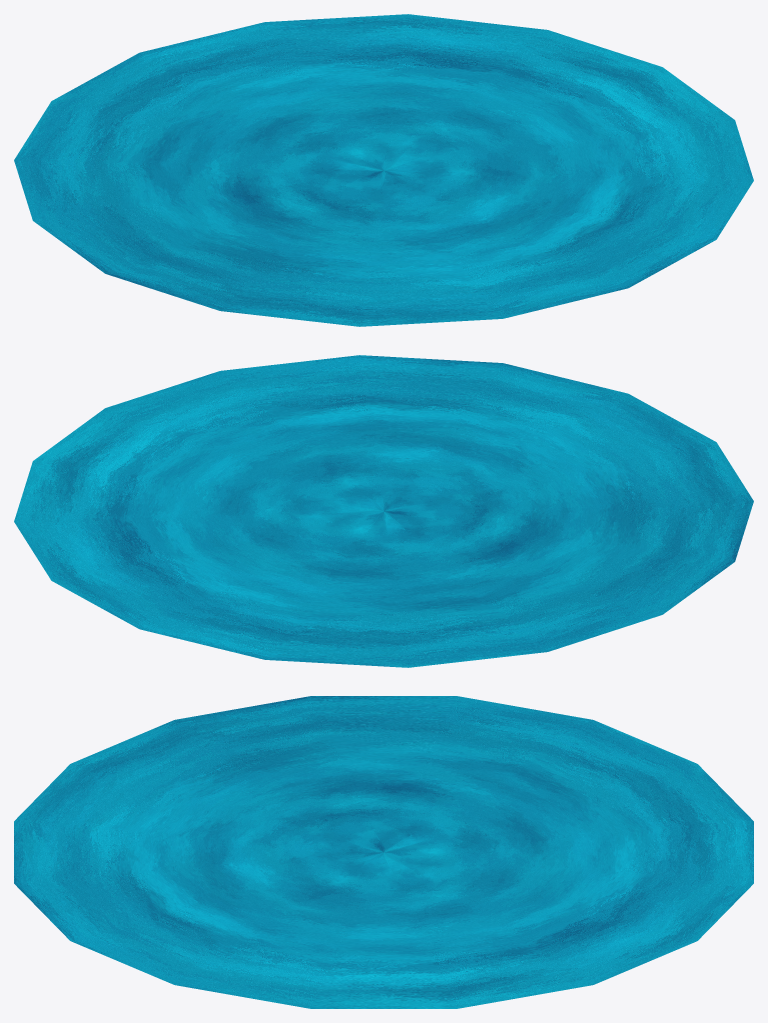
The model's file is Water_Circle_1_Lowpoly.fbx.
3 renders of one model, top to bottom at view 1: azimuth 30°, elevation 25°; view 2: azimuth 150°, elevation 25°; view 3: azimuth 270°, elevation 25°, orthographic.
Parts seen in each view (by area): view 1: Water_Circle_1_Lowpoly; view 2: Water_Circle_1_Lowpoly; view 3: Water_Circle_1_Lowpoly.
Part boxes in pixels (x1=…): Water_Circle_1_Lowpoly: x1=14, y1=14, x2=753, y2=326; Water_Circle_1_Lowpoly: x1=14, y1=355, x2=753, y2=667; Water_Circle_1_Lowpoly: x1=14, y1=696, x2=753, y2=1008.
Bounding box in the file's own units: 4000 × 1.65e-10 × 4000.
